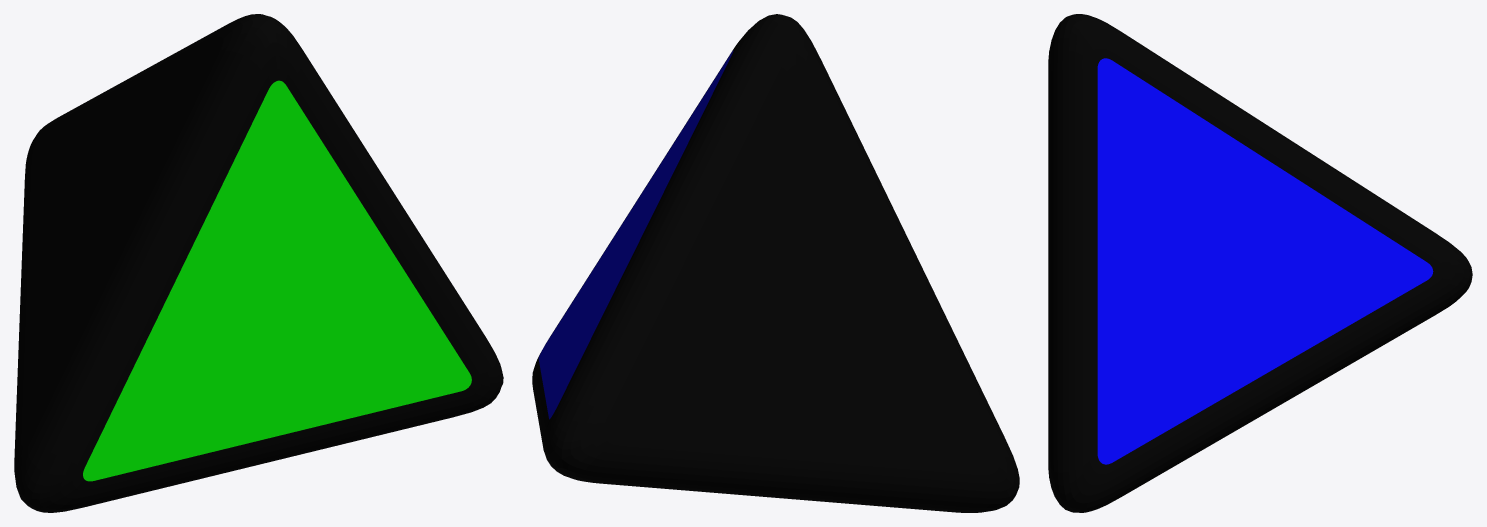
3 views of the same model, side by side, from view 1: azimuth 30°, elevation 25°; view 2: azimuth 150°, elevation 25°; view 3: azimuth 270°, elevation 25° (orthographic). The views are drawn at different scales.
Parts seen in each view (by area): view 1: t_bg; view 2: t_bg; view 3: t_bg.
Part boxes in pixels (x1,y1,x2,y2): t_bg: (14,14,503,512); t_bg: (532,14,1019,512); t_bg: (1048,14,1472,512).
Size of the model in its own units: 135 by 121 by 115.
